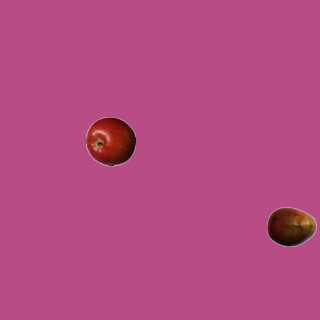Apple Braeburn: (85, 116, 135, 166)
Mango Red: (266, 201, 316, 251)
